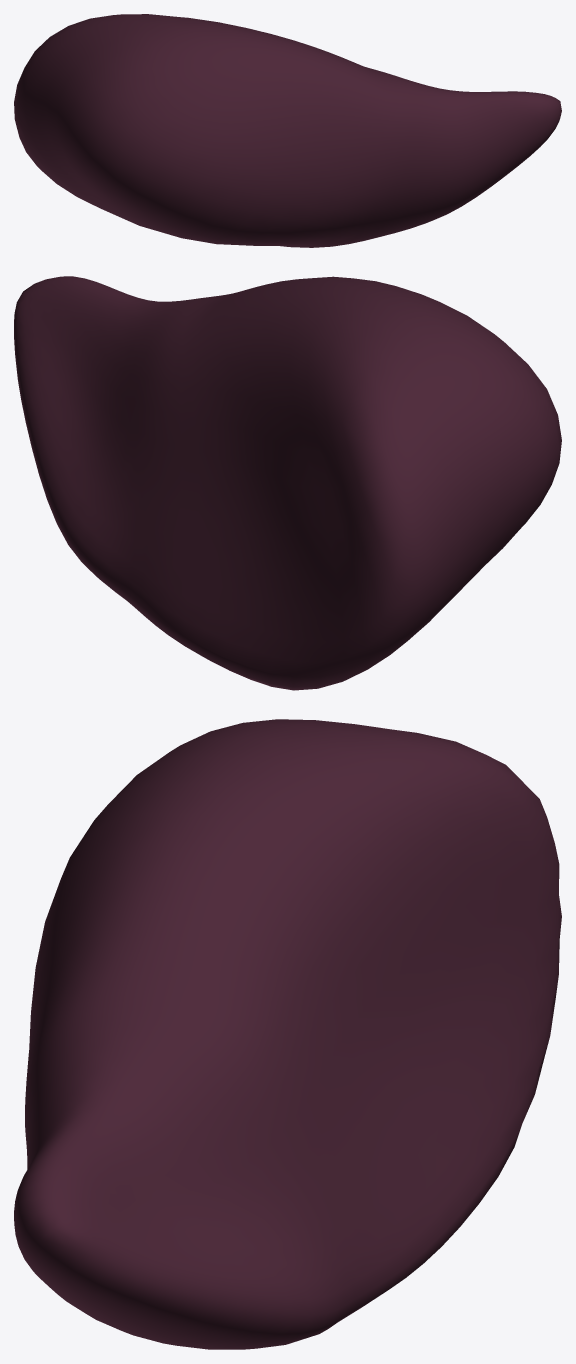
The model's file is liver2.obj.
3 views of the same model, one above another, from view 1: azimuth 30°, elevation 25°; view 2: azimuth 150°, elevation 25°; view 3: azimuth 270°, elevation 25° (orthographic). The views are drawn at different scales.
Parts seen in each view (by area): view 1: Liver; view 2: Liver; view 3: Liver.
Part boxes in pixels (bbox=[...]): Liver: bbox=[14, 14, 561, 247]; Liver: bbox=[14, 276, 561, 690]; Liver: bbox=[14, 719, 561, 1349].
Size of the model in its own units: 2.15 by 1.17 by 1.31.
